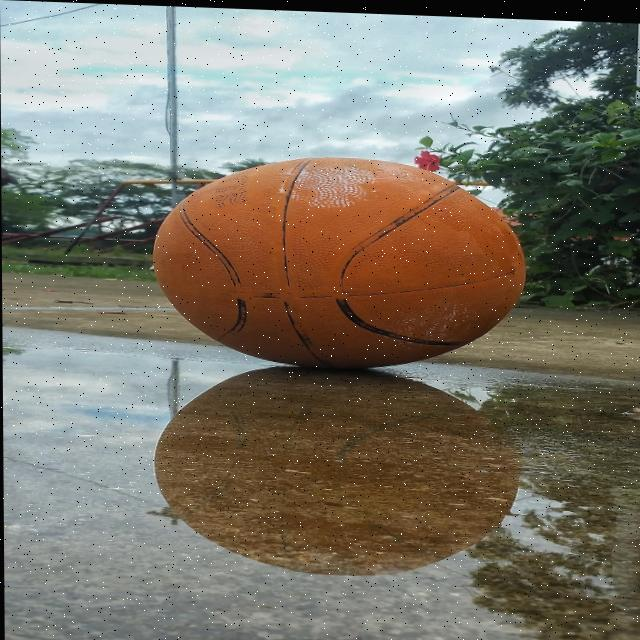Basketball: (153, 150, 527, 377)
